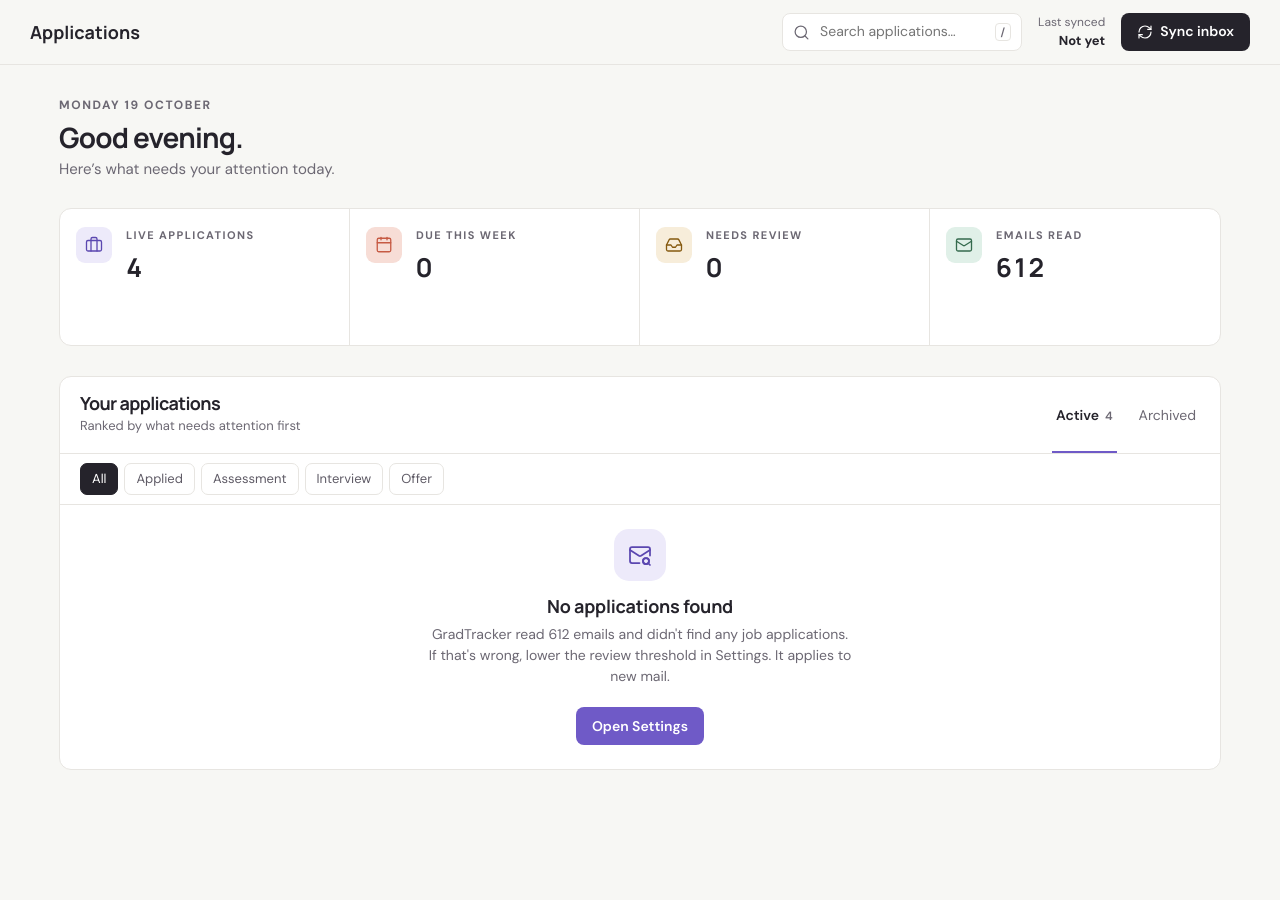
Test: empty and error states (T5.7) › an empty Archived tab says nothing is archived
Expected: the heading "No applications found" is shown, x1=547 y1=597 x2=733 y2=616
Click the tab "Archived" at (1167, 415), box x1=1135 y1=377 x2=1200 y2=453
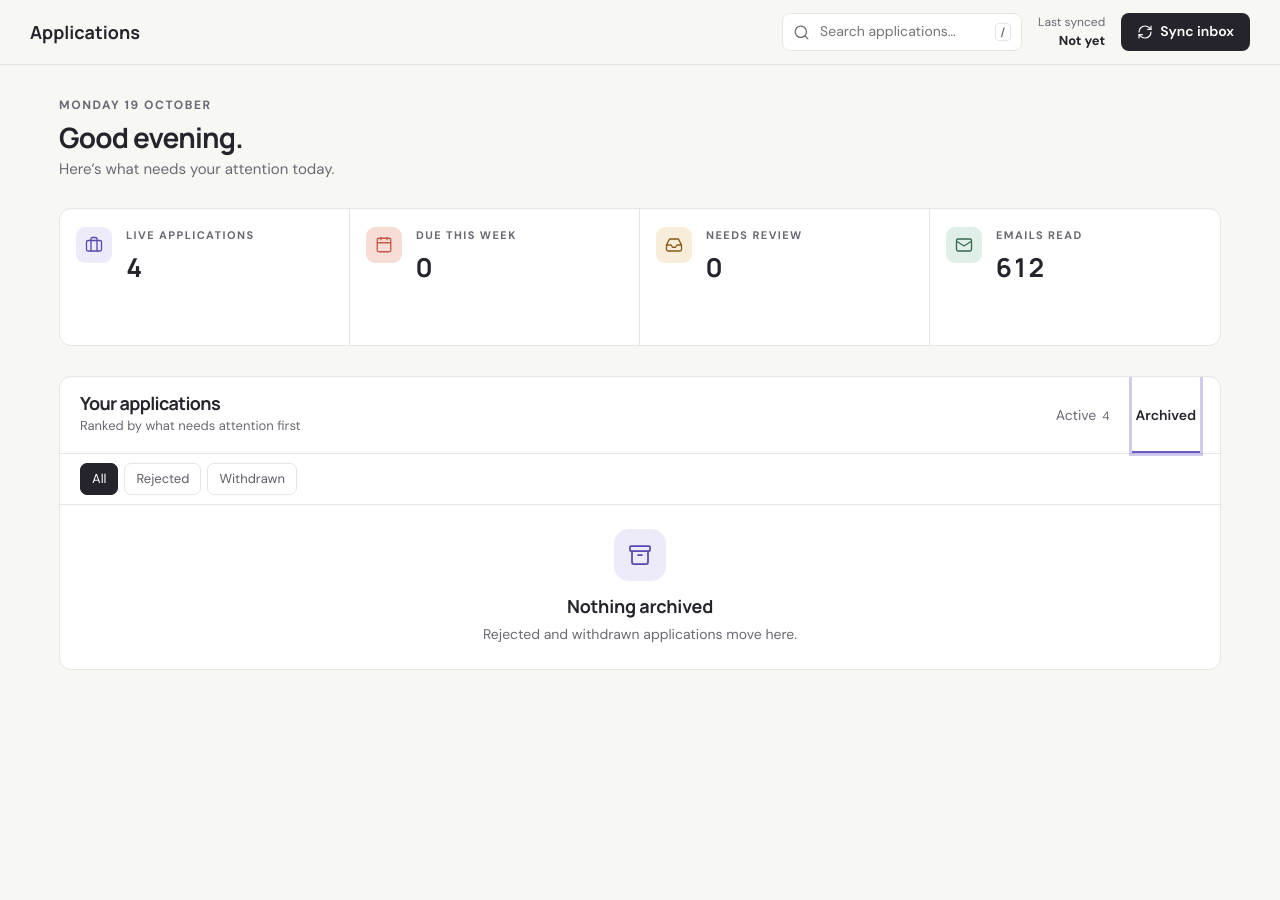
Now the heading "Nothing archived" is shown, box x1=567 y1=597 x2=713 y2=616
